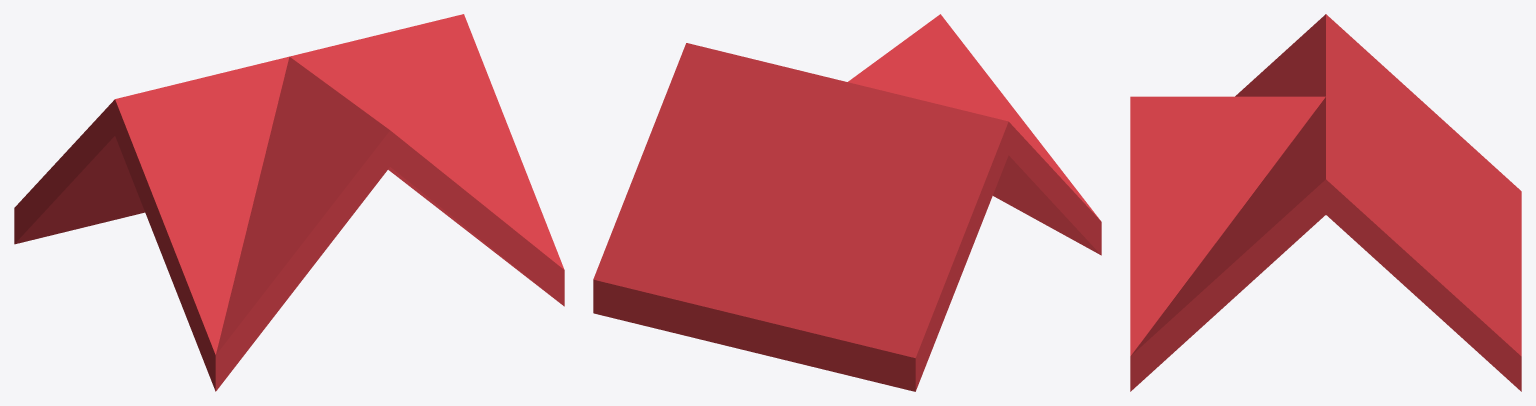
Rendered from roof_3_corner.glb.
The picture shows the model from 3 angles, left to right: view 1: azimuth 30°, elevation 25°; view 2: azimuth 150°, elevation 25°; view 3: azimuth 270°, elevation 25°; orthographic projection. The views are drawn at different scales.
Visible parts, largest first — view 1: roof_3_corner; view 2: roof_3_corner; view 3: roof_3_corner.
Part boxes in pixels (box(x1,y1,x2,y2)): roof_3_corner: box(14, 14, 564, 391); roof_3_corner: box(593, 14, 1101, 391); roof_3_corner: box(1130, 14, 1521, 391).
Size of the model in its own units: 1 by 0.6 by 1.
